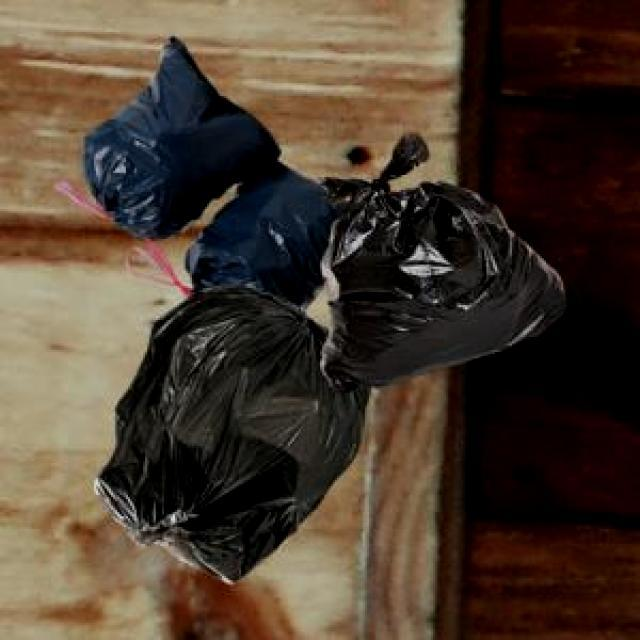Trashbag: (92, 294, 367, 590), (307, 174, 566, 390), (73, 47, 268, 236)
